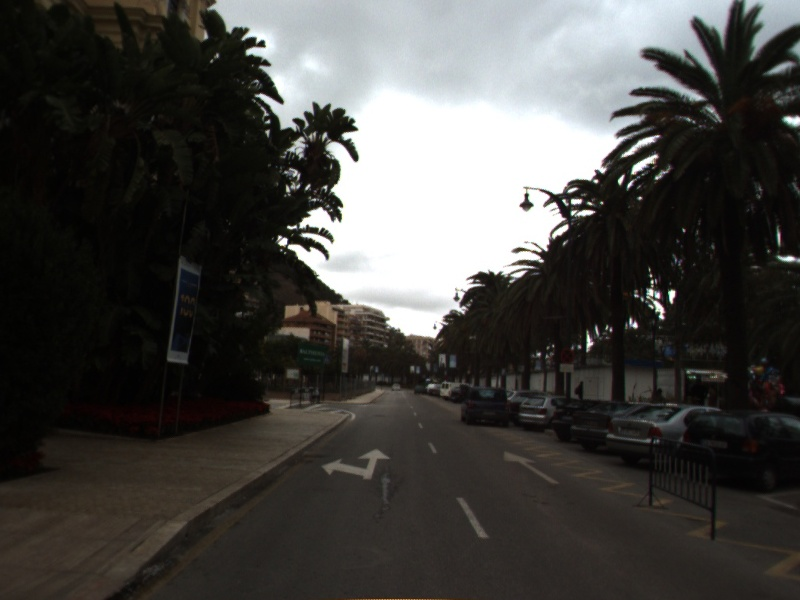STRAIGHT: (501, 449, 562, 486)
STRAIGHT_LEFT: (319, 446, 394, 483)
